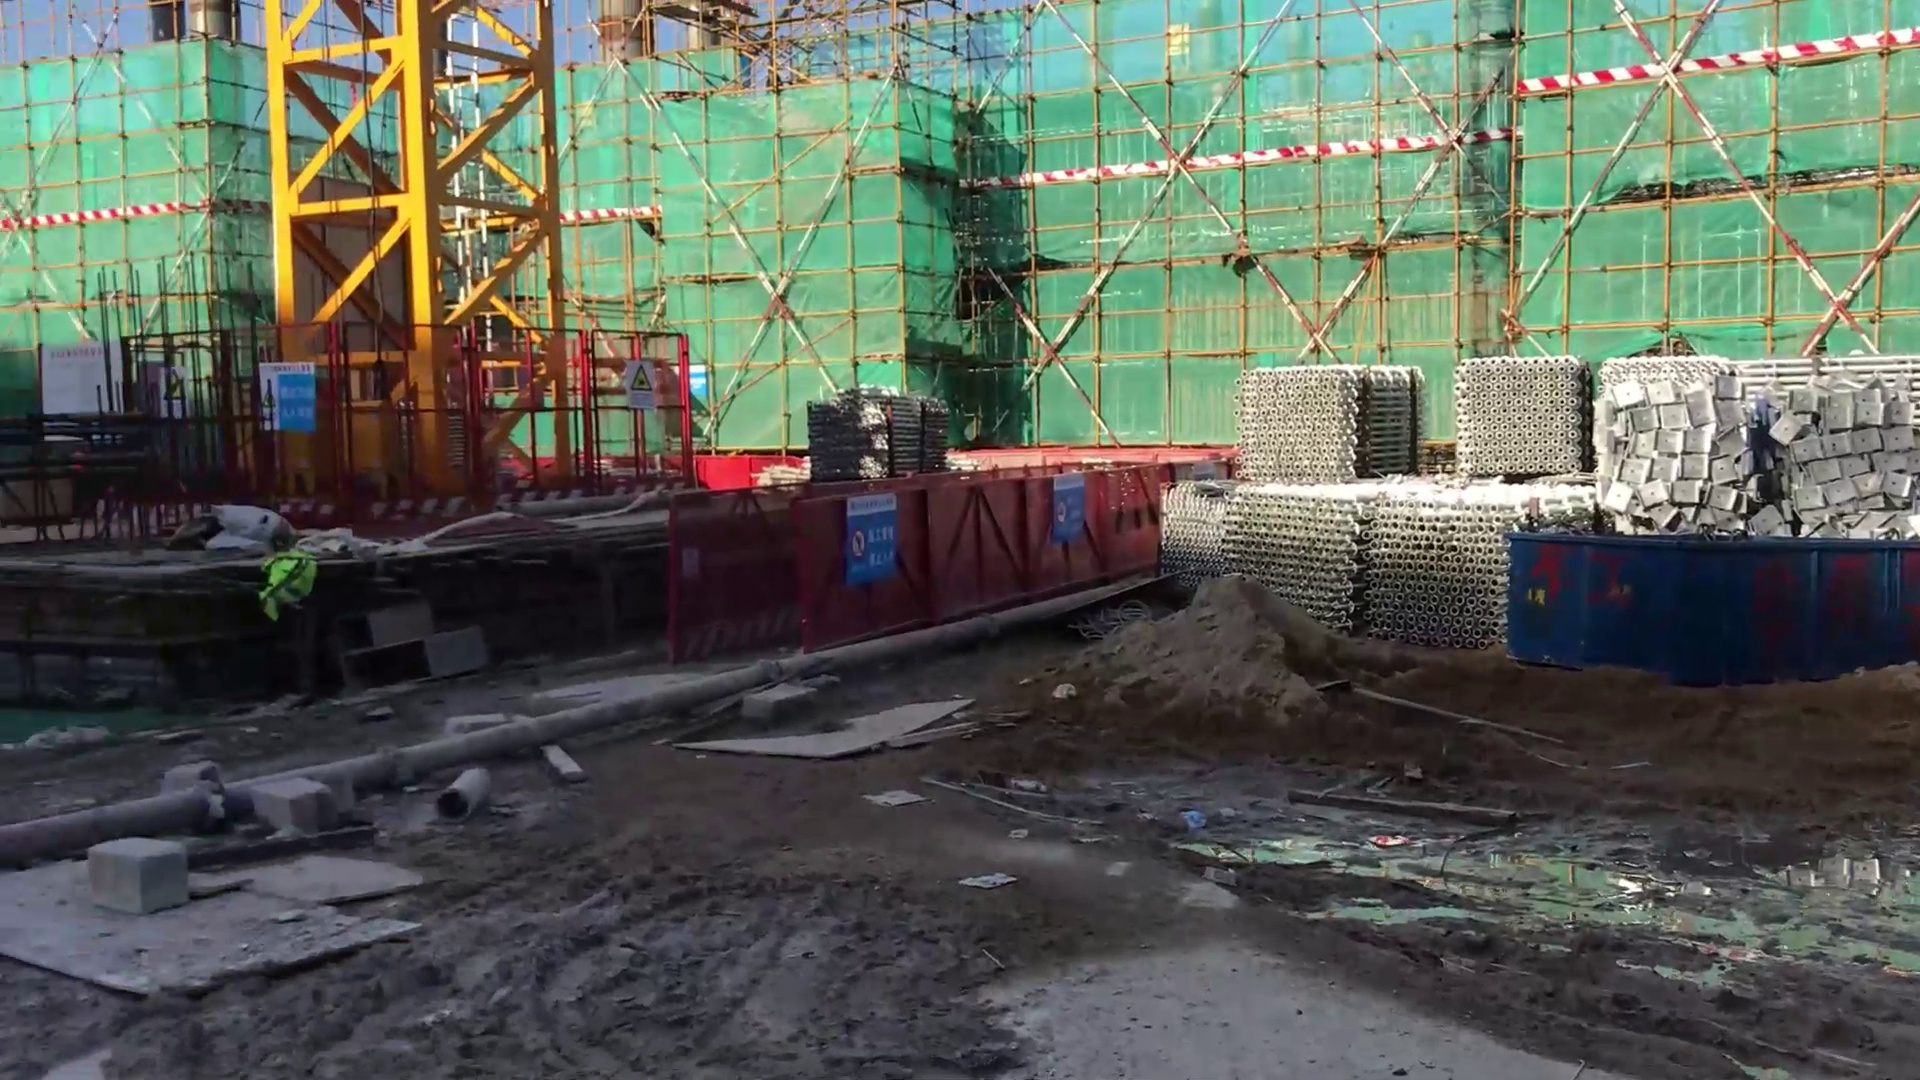fence: (665, 468, 1124, 641), (363, 334, 713, 481)
hopper: (1524, 529, 1710, 684), (1706, 537, 1879, 688)
scaffold: (1229, 483, 1518, 670), (1448, 334, 1585, 483), (1225, 355, 1369, 487), (1158, 479, 1254, 589), (811, 392, 940, 473)
slogan: (833, 518, 916, 583), (260, 381, 318, 429), (618, 360, 655, 407)
